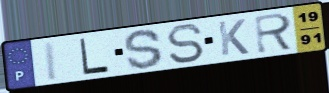I: (42, 40, 61, 83)
K: (216, 17, 251, 57)
L: (78, 36, 112, 76)
R: (253, 11, 297, 56)
S: (122, 28, 165, 71), (164, 22, 206, 65)
